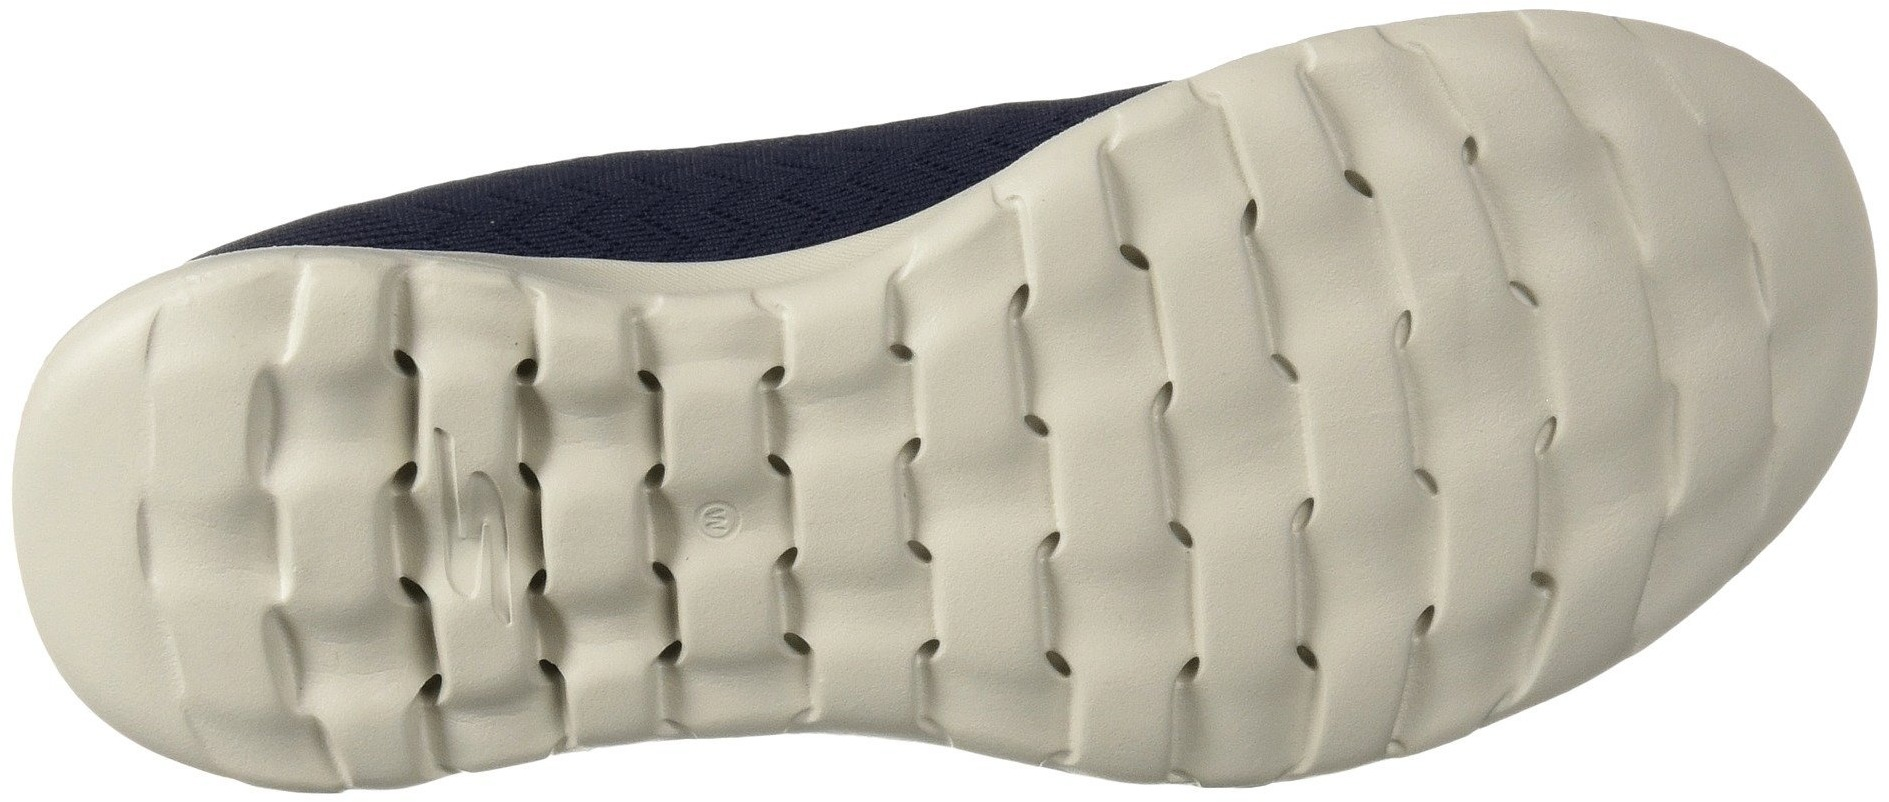other: (28, 466, 288, 659)
quad: (1044, 275, 1395, 592), (1531, 126, 1812, 390)
text: (404, 430, 531, 645), (675, 500, 753, 558)
